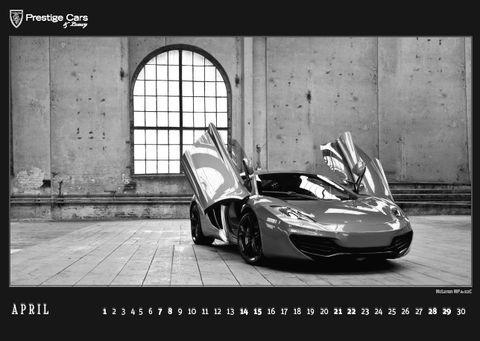car: (180, 123, 423, 268)
